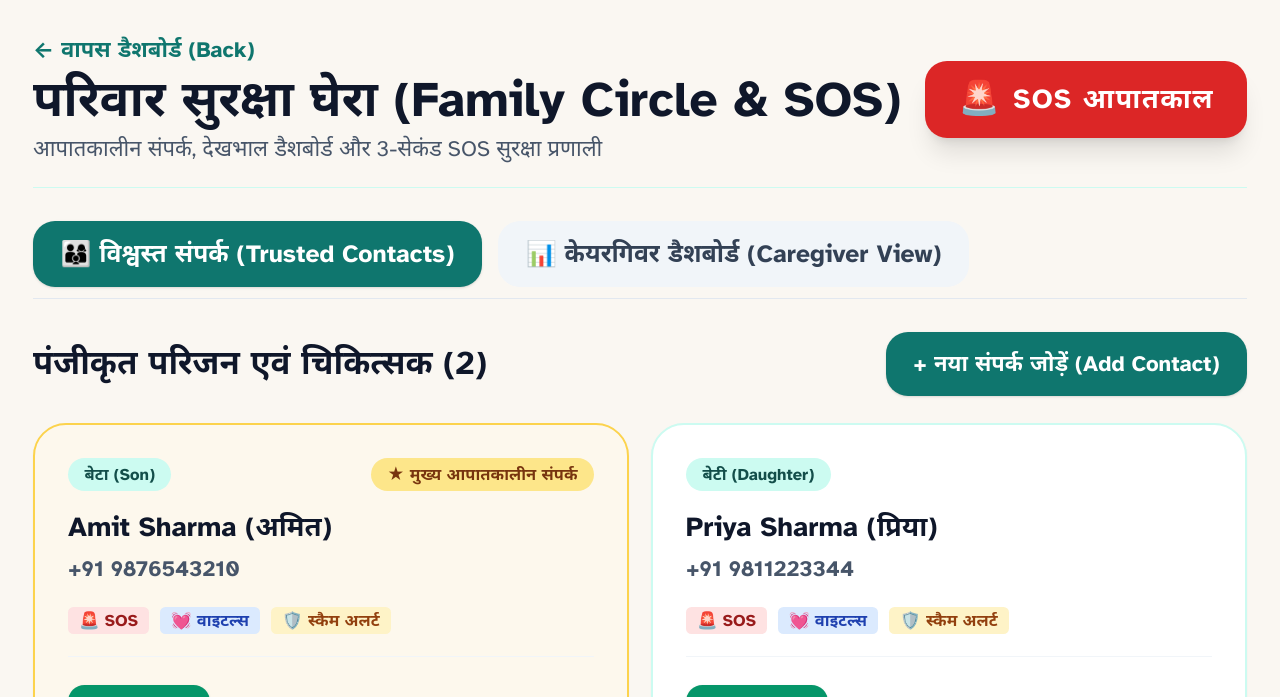
Test case: FamilyCircle Component › renders contacts list and switches to Caregiver dashboard tab
The width and height of the screenshot is (1280, 697).
Check: the heading "परिवार सुरक्षा घेरा (Family Circle & SOS)" is shown, box [33,72,901,126]
Check: the heading "Amit Sharma (अमित)" is shown, box [68,510,332,544]
Note: Switch to Caregiver View tab
Click the button "📊 केयरगिवर डैशबोर्ड (Caregiver View)": coordinates (734, 254) [498,221,969,287]
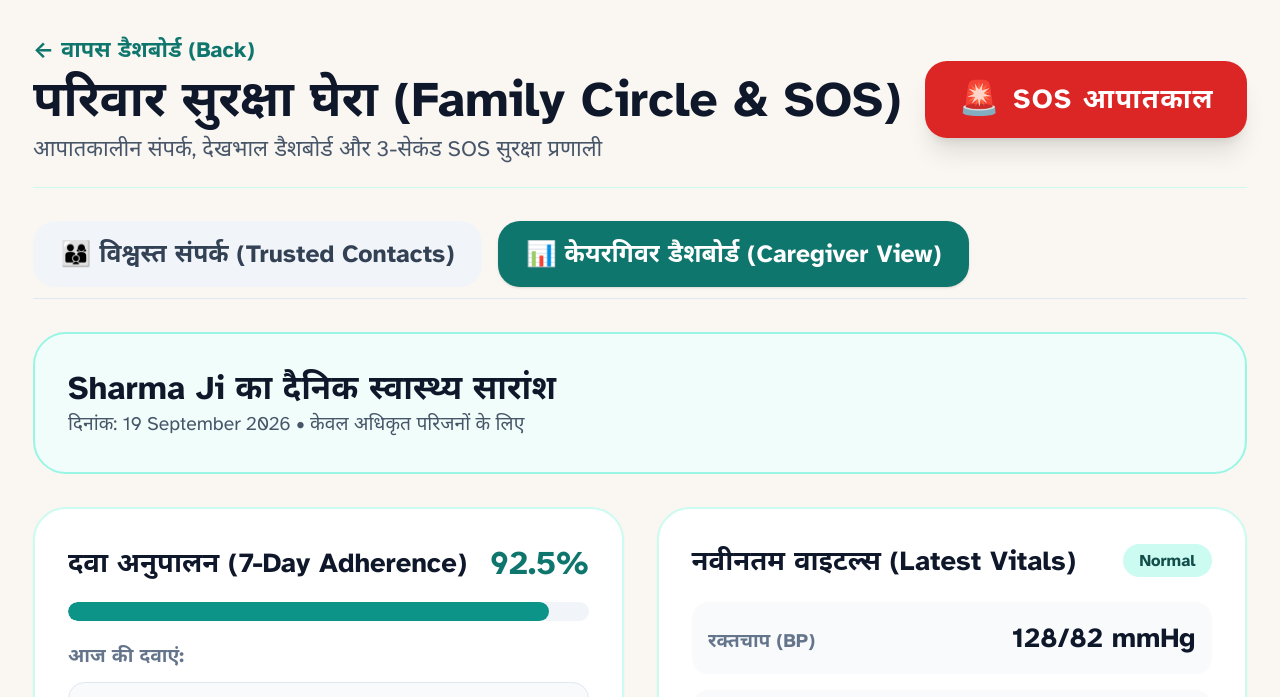
Check: the heading "Sharma Ji का दैनिक स्वास्थ्य सारांश" is shown, box [68,368,556,409]
Check: the text "92.5%" is shown, box [490,542,588,586]
Check: the text "128/82 mmHg" is shown, box [1012,618,1196,657]
